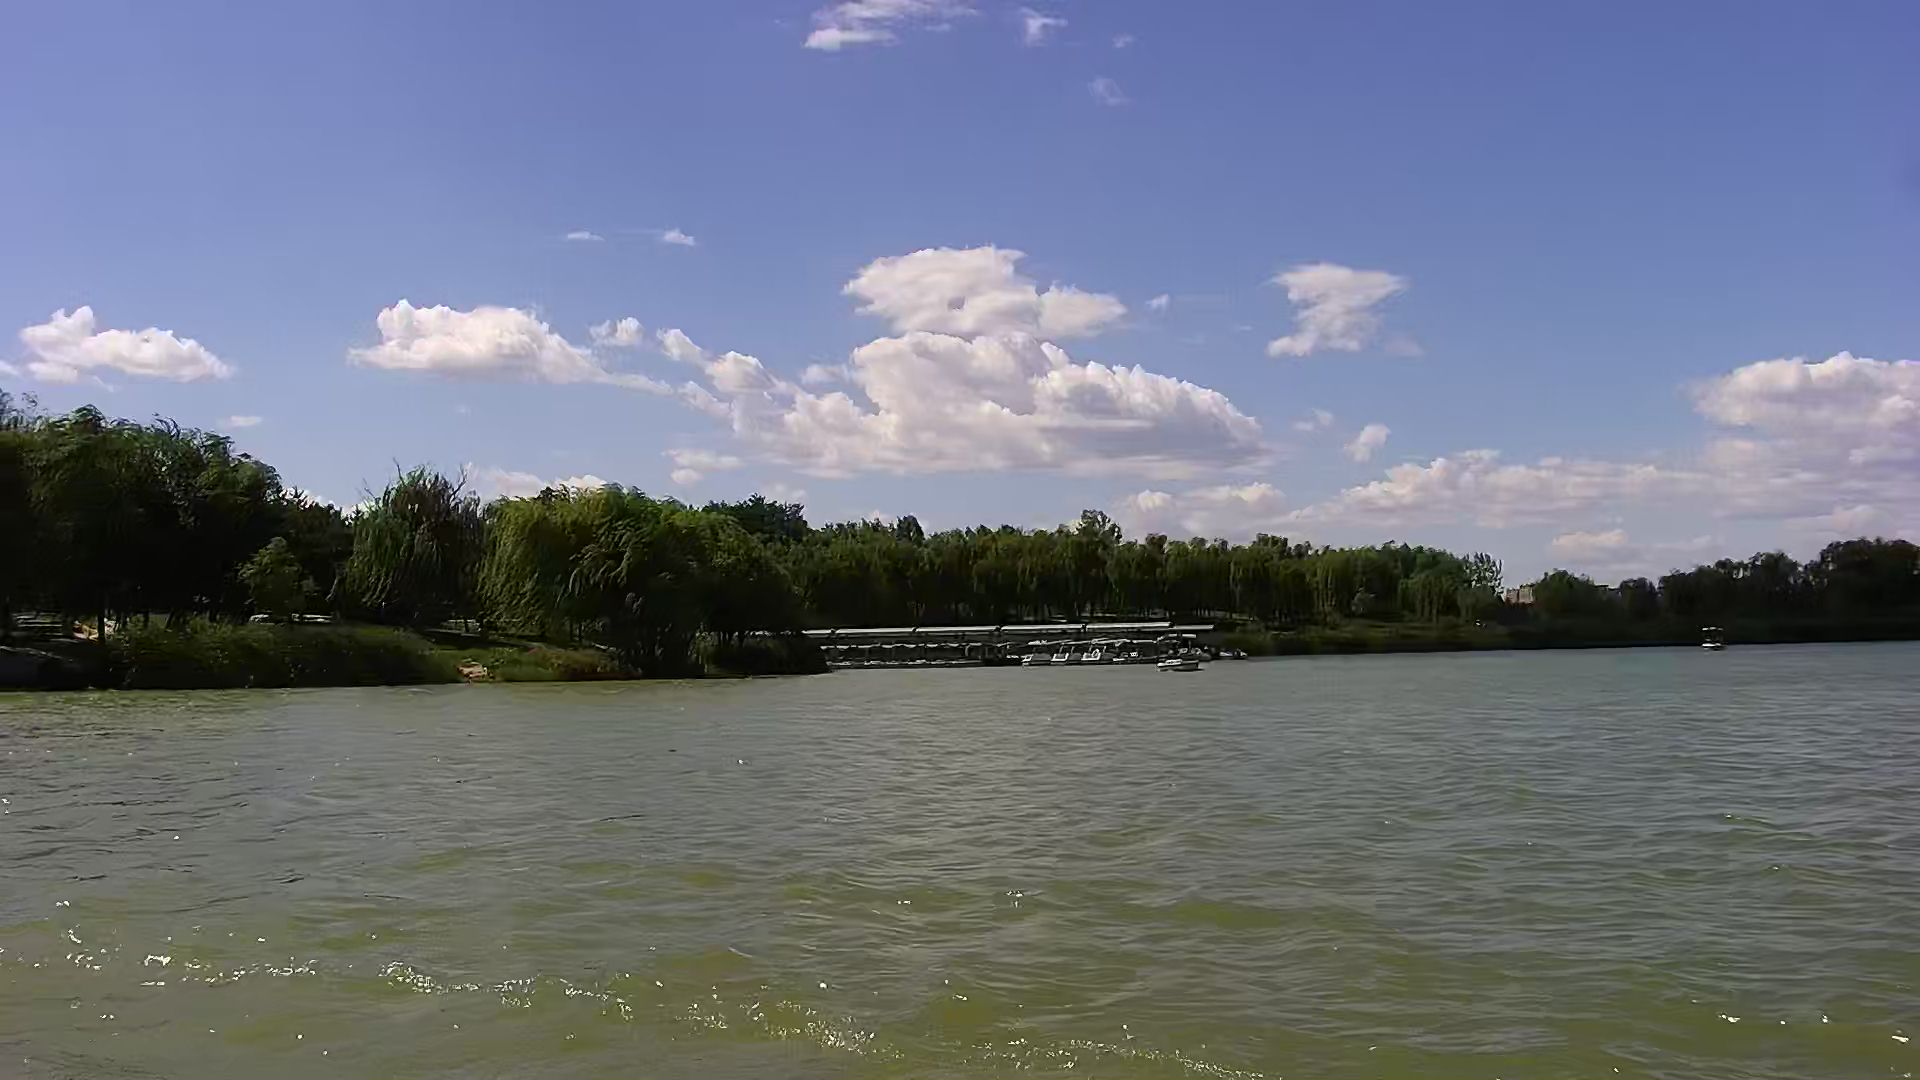boat: (1116, 640, 1153, 666), (1153, 658, 1196, 675), (1701, 625, 1727, 653), (1050, 642, 1080, 666), (1083, 640, 1110, 665), (1017, 645, 1048, 666)
harbor: (829, 624, 1222, 665)
